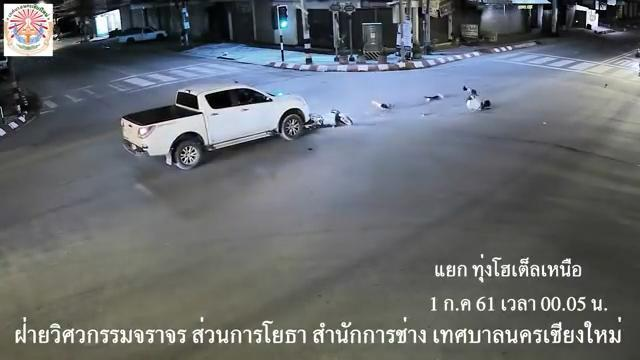accident: (464, 87, 495, 112)
